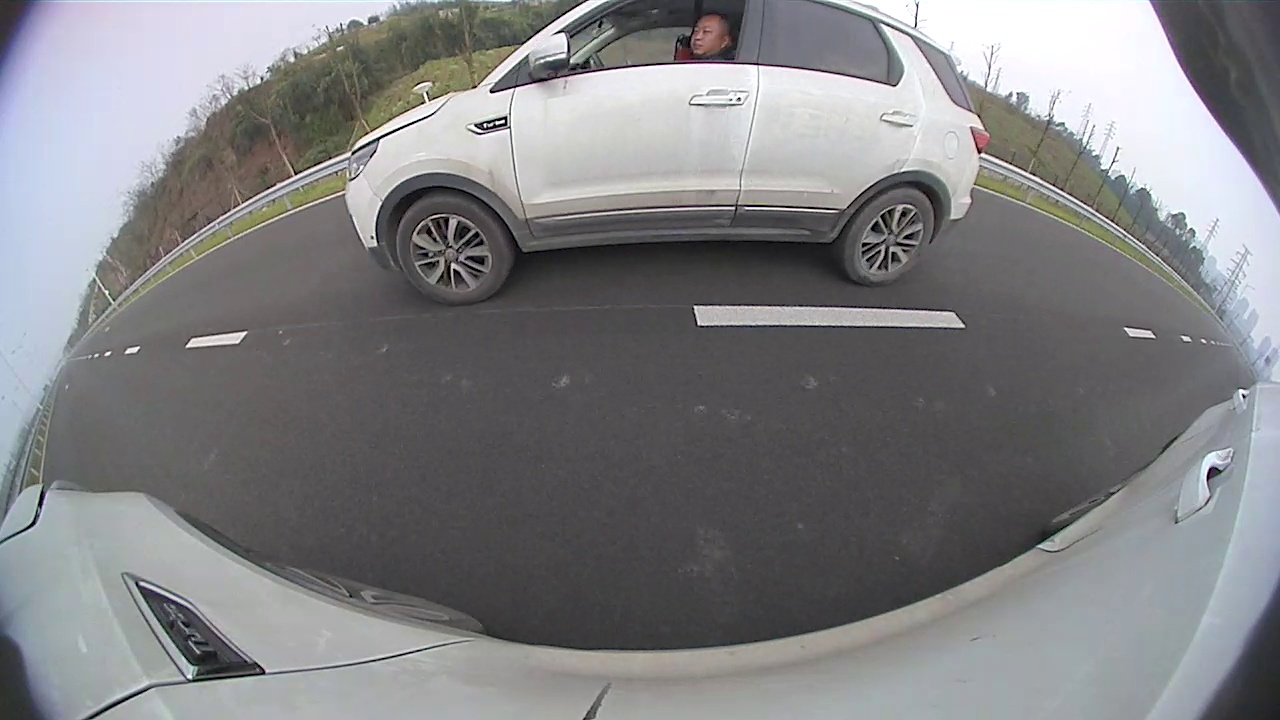car: (346, 1, 988, 306)
front: (386, 186, 516, 309)
rear: (838, 181, 947, 292)
